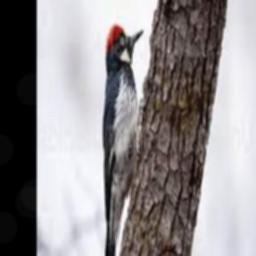Woodpecker: (103, 23, 144, 256)
